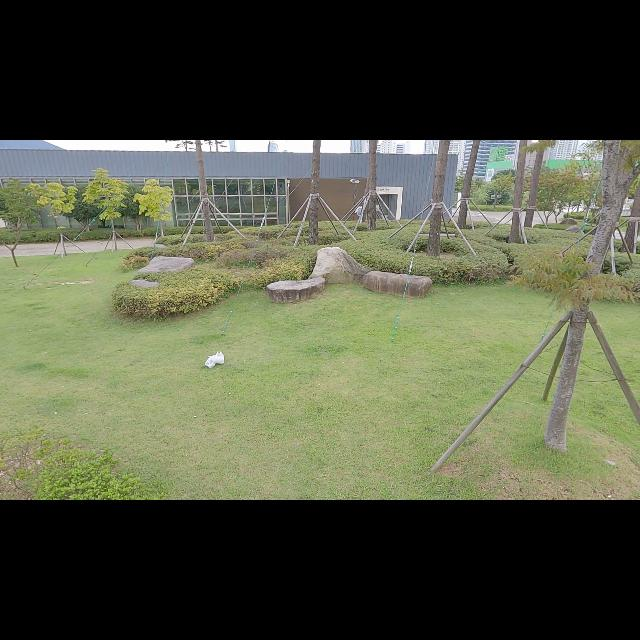trash: (205, 353, 218, 369), (215, 351, 225, 365)
